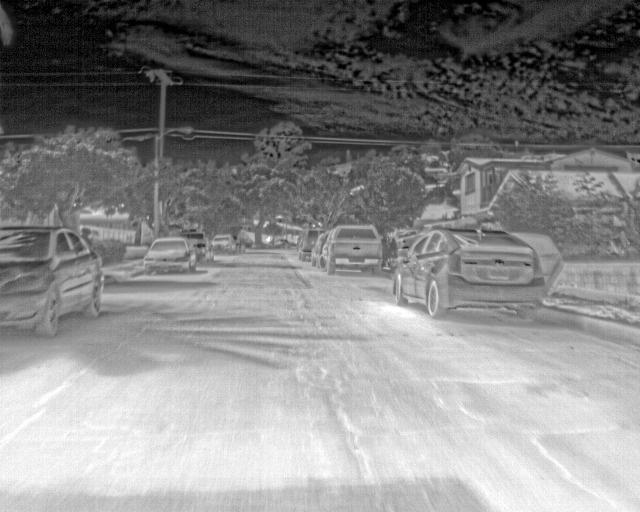car: (392, 226, 564, 322), (0, 223, 104, 337), (321, 224, 384, 275), (142, 236, 194, 274), (181, 230, 209, 262), (296, 227, 319, 260), (209, 234, 237, 256), (312, 236, 328, 264)
